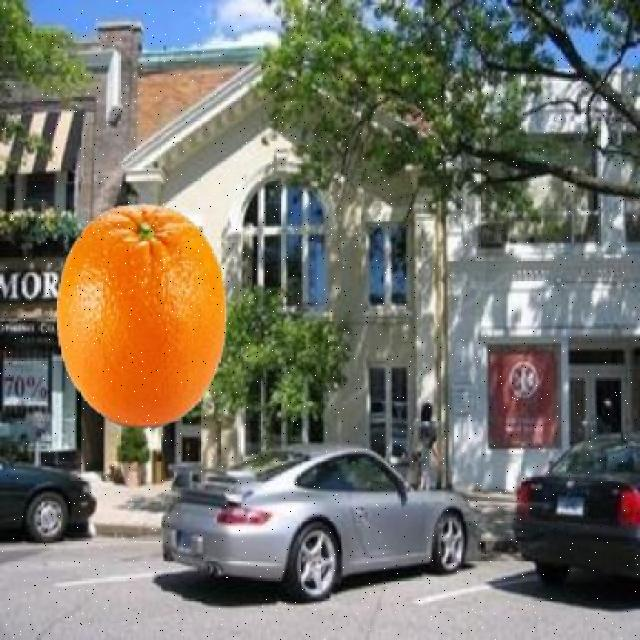Orange: (54, 202, 228, 428)
